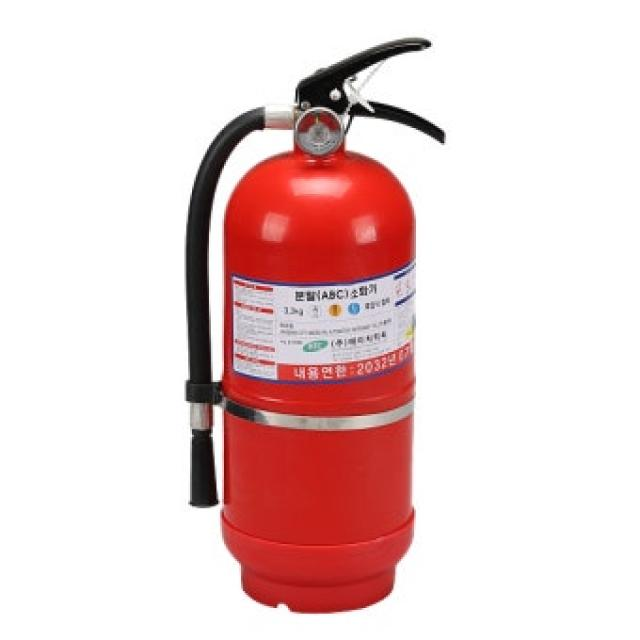pressure gauge: (296, 109, 343, 154)
